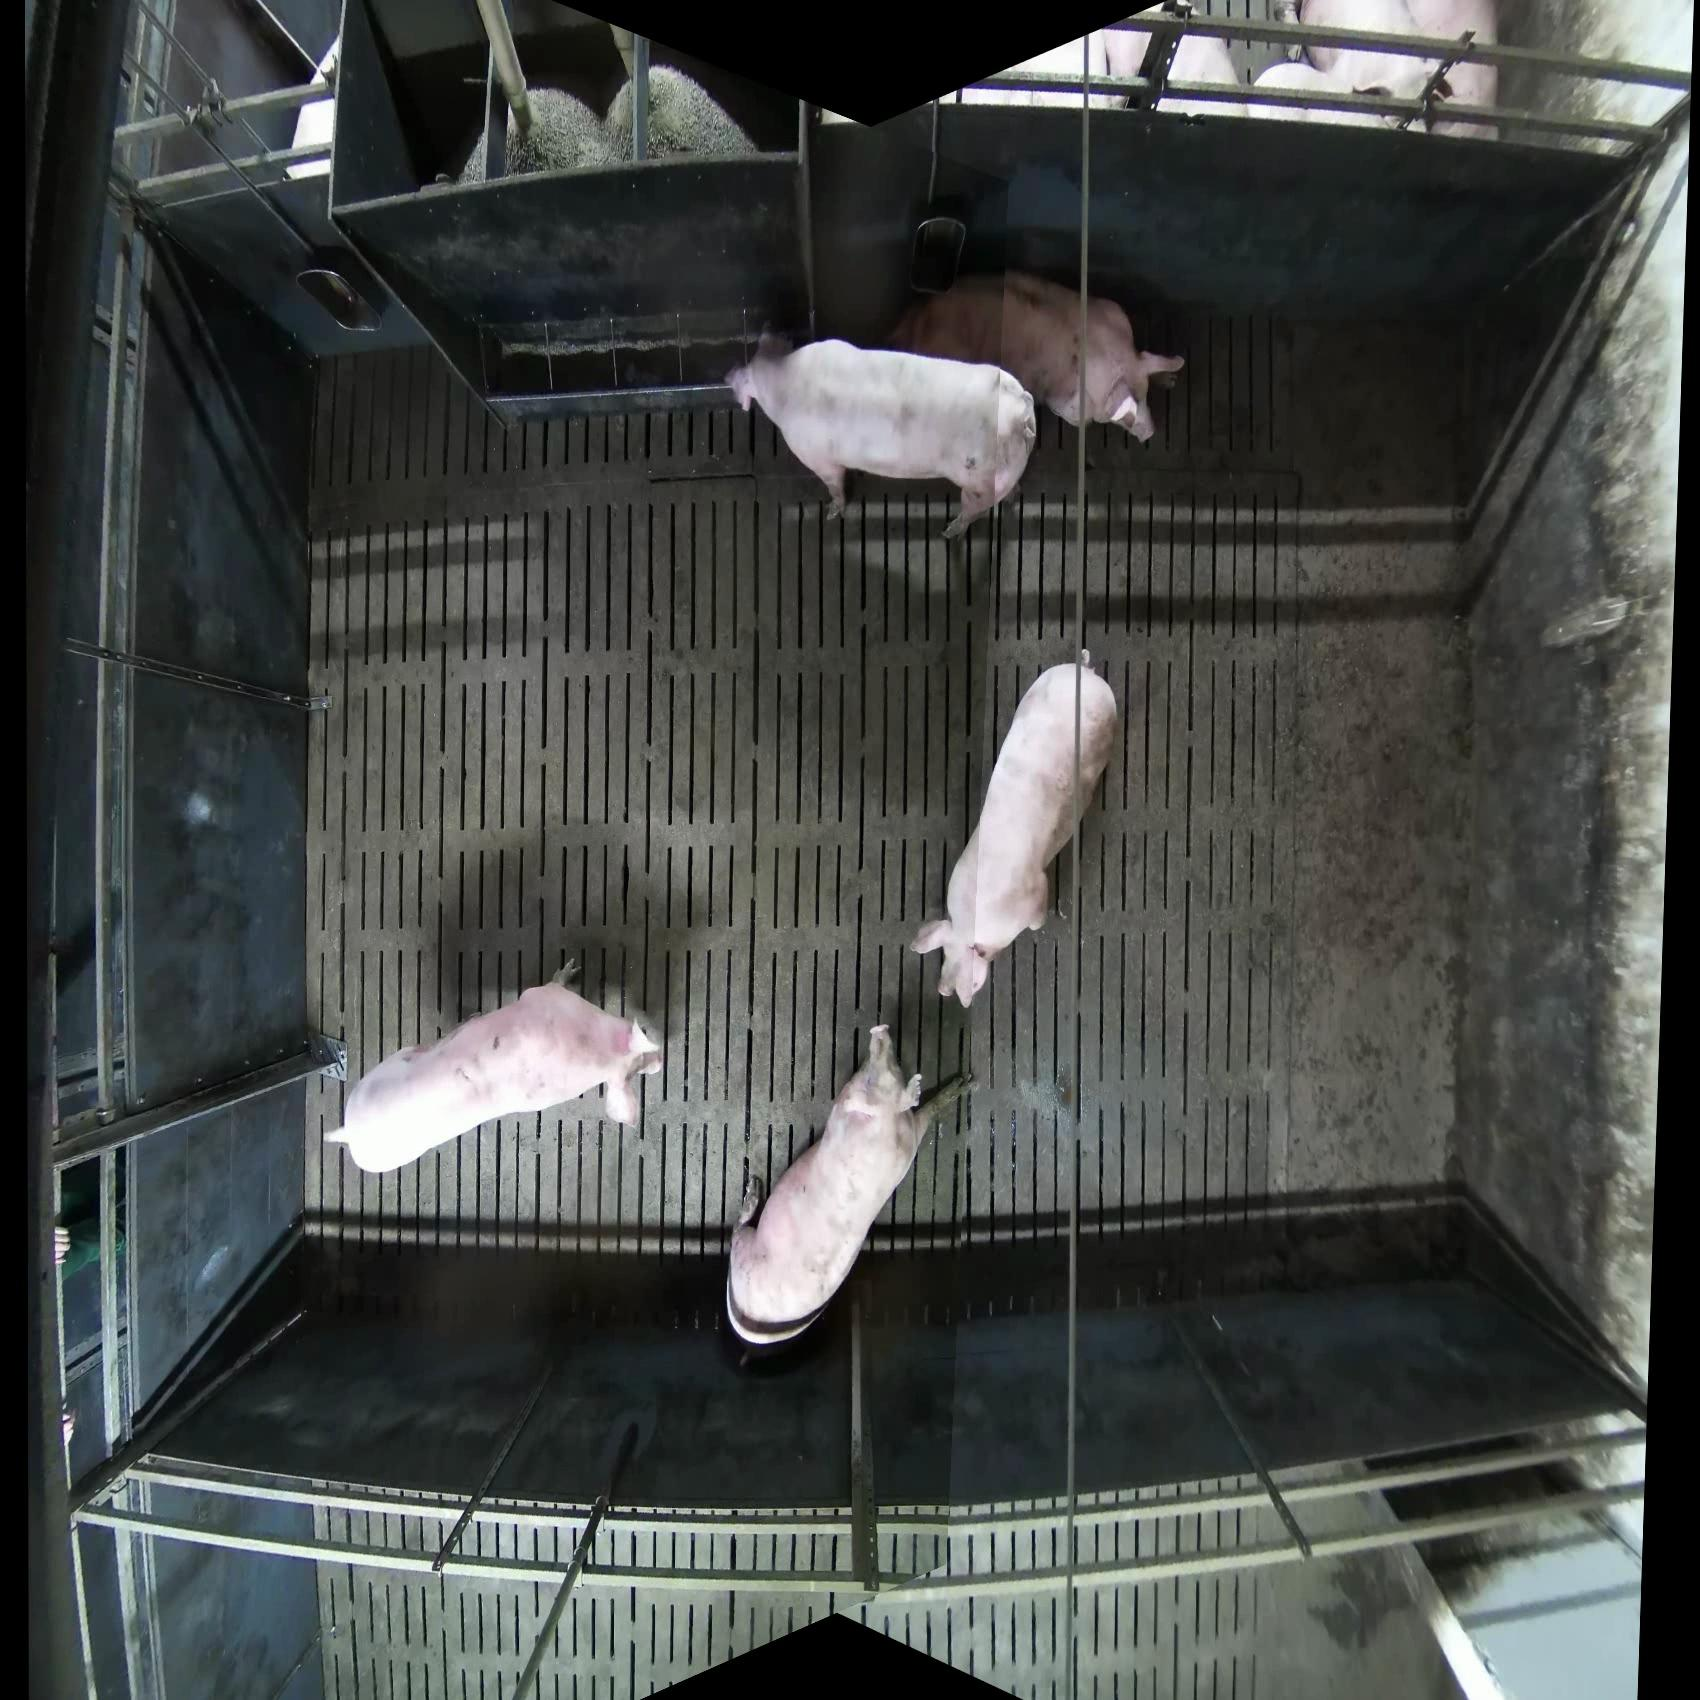pig: (722, 1023, 978, 1350), (322, 954, 665, 1175), (911, 659, 1119, 1009), (722, 332, 1038, 543), (883, 269, 1186, 448), (1249, 2, 1501, 140), (1093, 20, 1247, 118)
